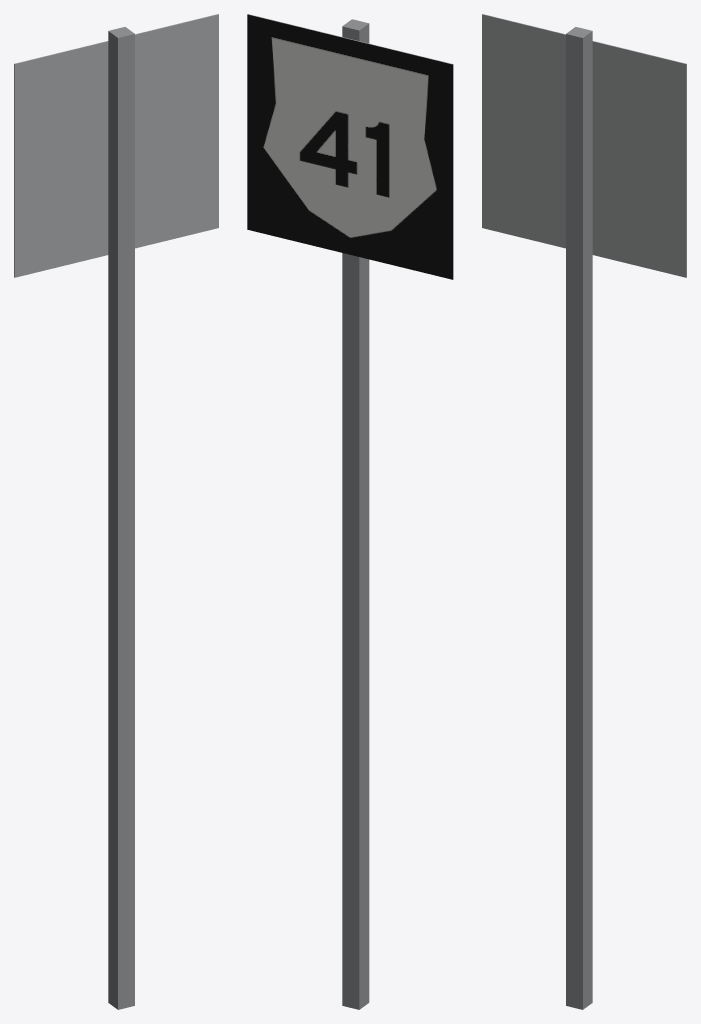
The model's file is sign_m1-4_us_41.glb.
The picture shows the model from 3 angles, left to right: view 1: azimuth 30°, elevation 25°; view 2: azimuth 150°, elevation 25°; view 3: azimuth 330°, elevation 25°; orthographic projection.
Visible parts, largest first — view 1: sign_m1-4_us_41; view 2: sign_m1-4_us_41; view 3: sign_m1-4_us_41.
Part boxes in pixels (left/top/right/bottom): sign_m1-4_us_41: left=14, top=14, right=218, bottom=1009; sign_m1-4_us_41: left=247, top=14, right=453, bottom=1009; sign_m1-4_us_41: left=482, top=14, right=686, bottom=1009.
Size of the model in its own units: 0.6096 by 2.77 by 0.0538.
3 materials, 1 textured.
